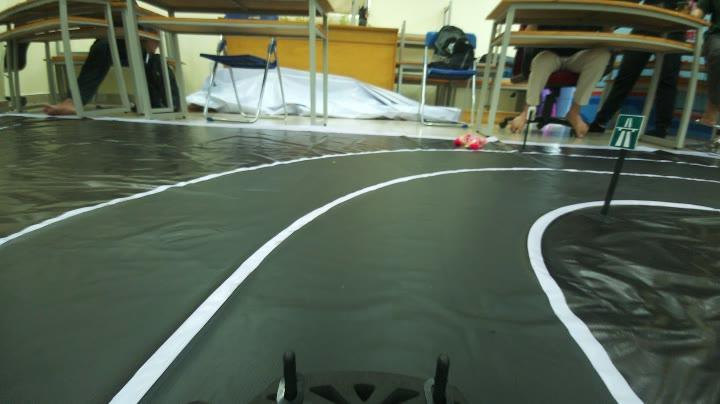highway_entry: (609, 110, 644, 156)
